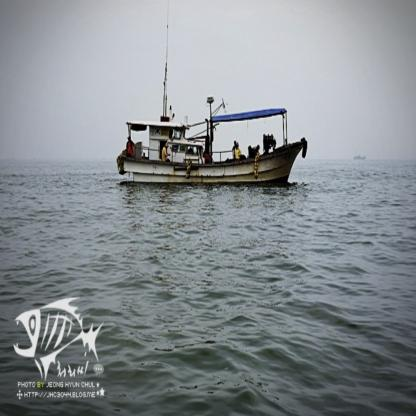fish-b: (107, 82, 311, 204)
